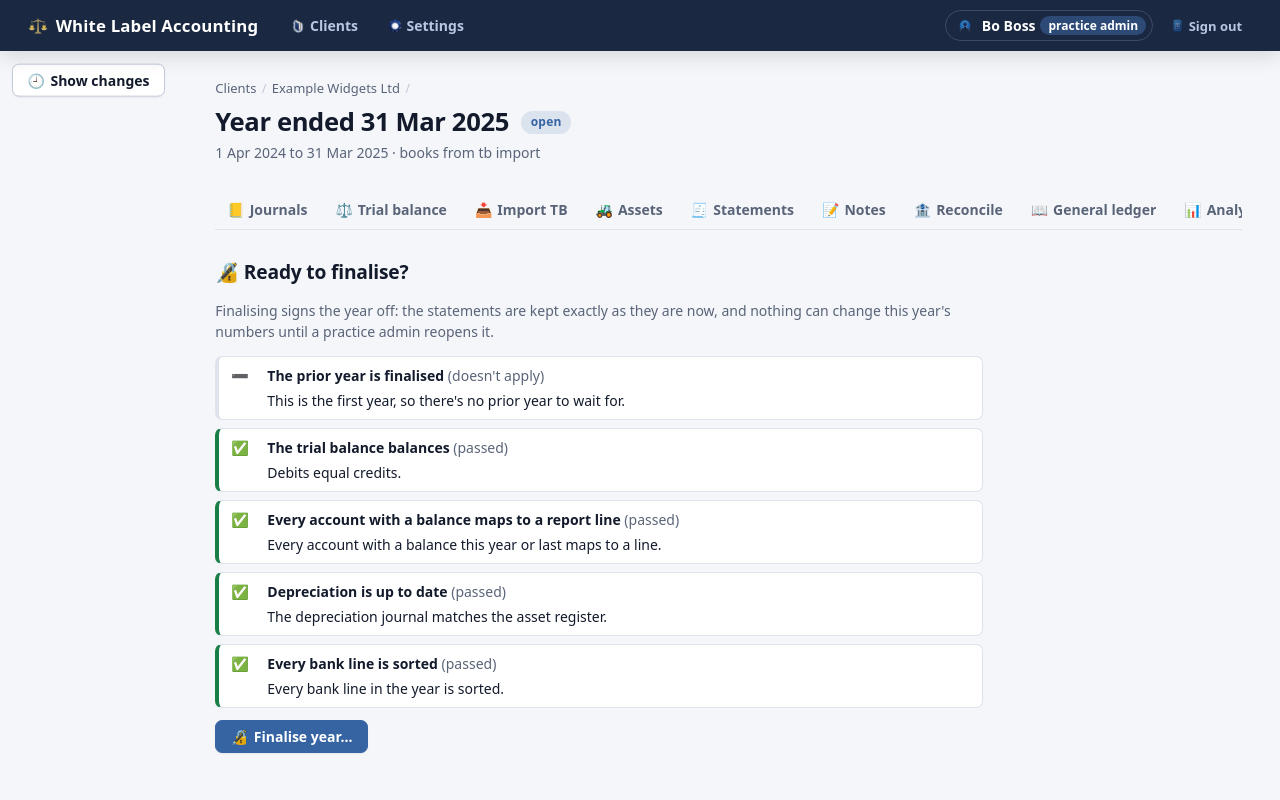
Test case: finalise › shows the server's reasons when finalising is refused
The width and height of the screenshot is (1280, 800).
Click the button "🔏 Finalise year…" at (292, 737), box x1=215 y1=720 x2=368 y2=753
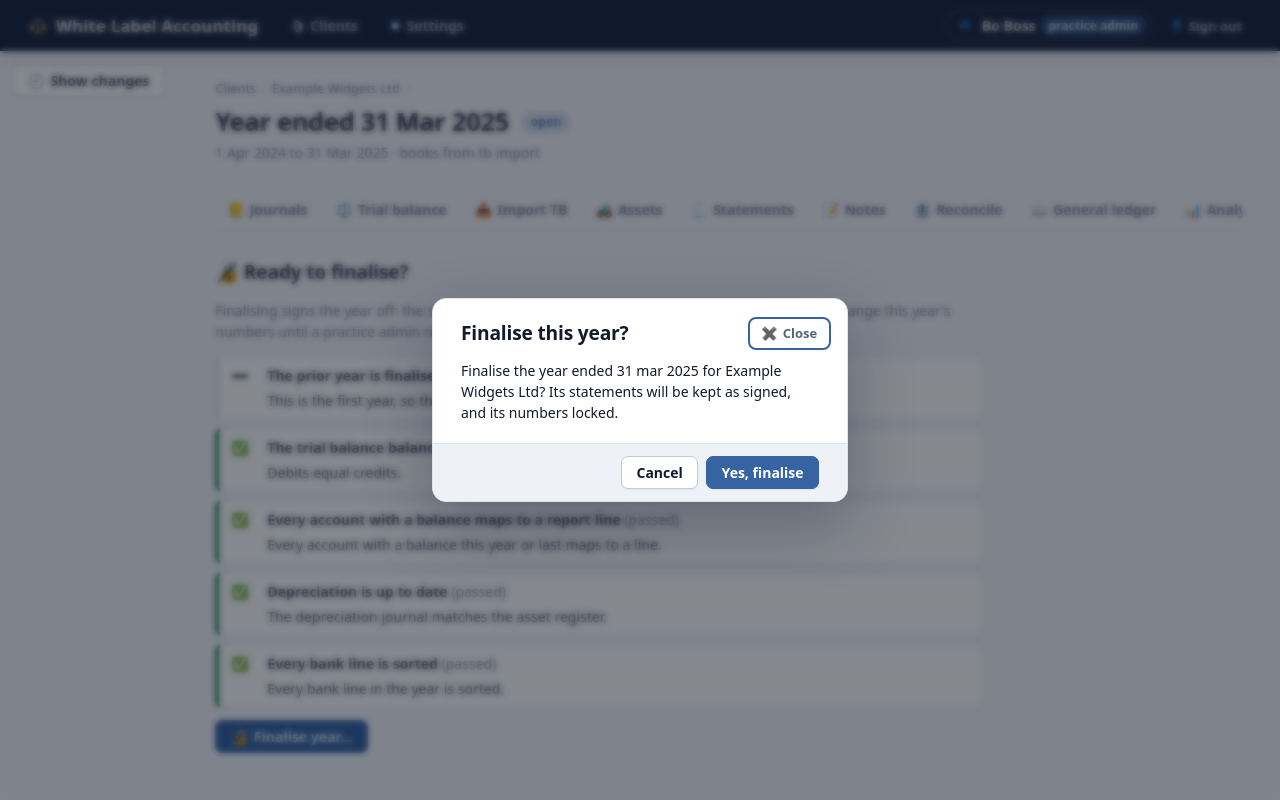
Click the button "Yes, finalise" at (763, 472), box x1=706 y1=456 x2=819 y2=489
(page scrolled)
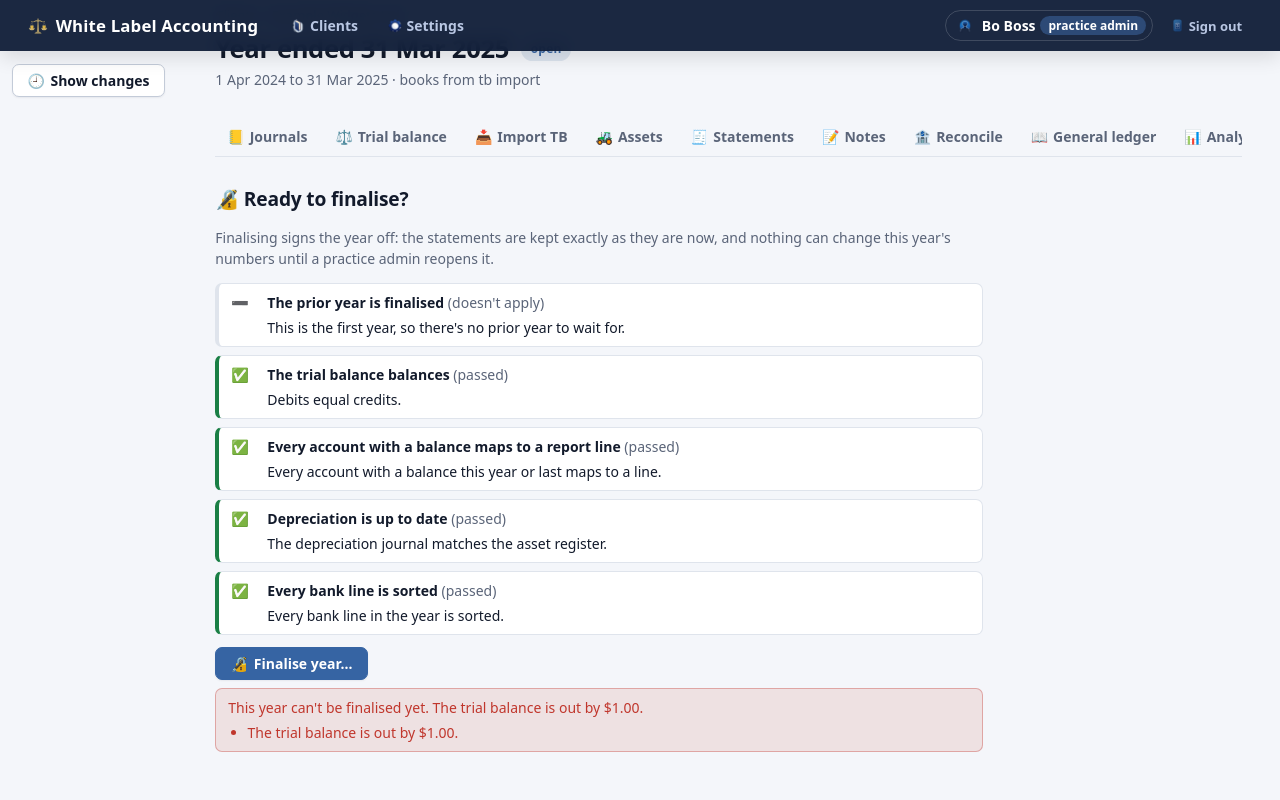
Now the message shows "out by $1.00", box x1=228 y1=698 x2=643 y2=717
